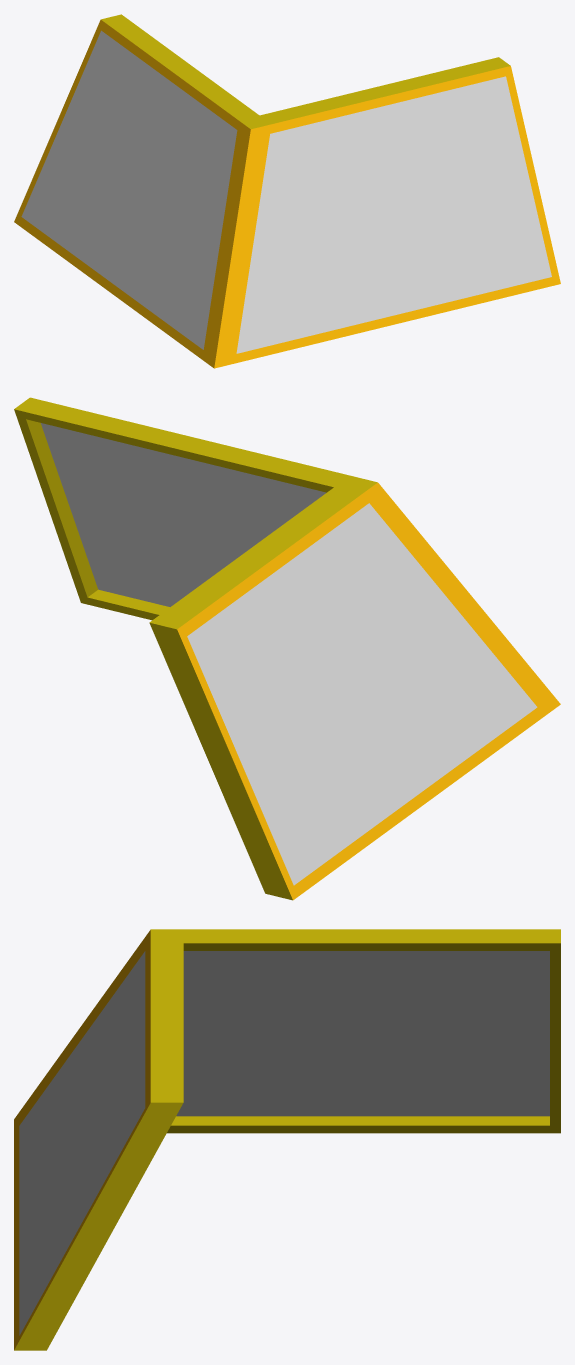
File: window_slanted_corner_4x4x2.dae
3 views of the same model, one above another, from view 1: azimuth 30°, elevation 25°; view 2: azimuth 150°, elevation 25°; view 3: azimuth 270°, elevation 25° (orthographic). The views are drawn at different scales.
Visible parts, largest first — view 1: Cube.001; view 2: Cube.001; view 3: Cube.001.
Part boxes in pixels (left/top/right/bottom): Cube.001: left=14, top=14, right=560, bottom=368; Cube.001: left=14, top=397, right=560, bottom=900; Cube.001: left=14, top=929, right=560, bottom=1350.
Size of the model in its own units: 1 by 1 by 0.5.
